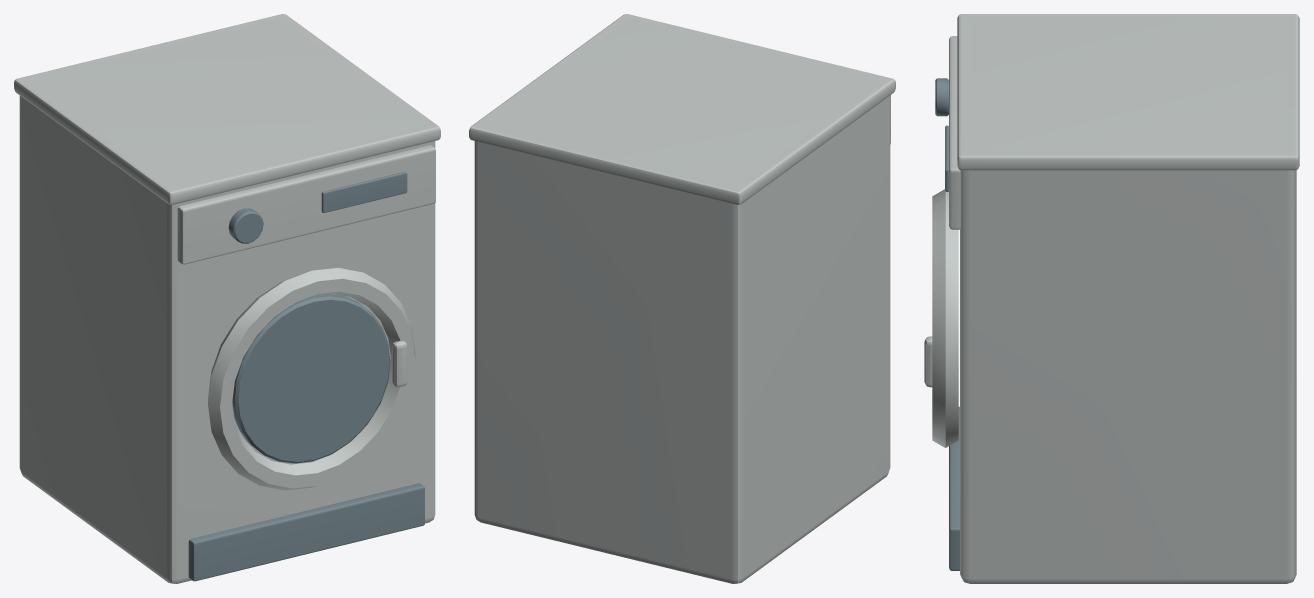
Rendered from washing-machine.glb.
3 views of the same model, side by side, from view 1: azimuth 30°, elevation 25°; view 2: azimuth 150°, elevation 25°; view 3: azimuth 270°, elevation 25° (orthographic). The views are drawn at different scales.
Parts seen in each view (by area): view 1: appliance_body, door_glass, door_rim, control_fascia, top, kick_panel, display, program_dial, door_latch; view 2: appliance_body, top; view 3: appliance_body, top, door_rim, control_fascia, kick_panel, program_dial.
Boxes of the visible parts, x1,y1,x2,y2 form: appliance_body: [19, 18, 435, 583]; door_glass: [232, 294, 390, 463]; door_rim: [208, 268, 415, 490]; control_fascia: [177, 145, 435, 264]; top: [14, 14, 440, 204]; kick_panel: [188, 483, 424, 581]; display: [321, 172, 407, 212]; program_dial: [228, 208, 263, 243]; door_latch: [392, 341, 407, 386]; appliance_body: [474, 18, 890, 583]; top: [469, 14, 895, 204]; appliance_body: [960, 17, 1296, 583]; top: [957, 14, 1299, 170]; door_rim: [932, 189, 958, 447]; control_fascia: [949, 36, 960, 229]; kick_panel: [949, 406, 959, 570]; program_dial: [935, 78, 948, 116].
Size of the model in its own units: 0.61 by 0.85 by 0.6685.
